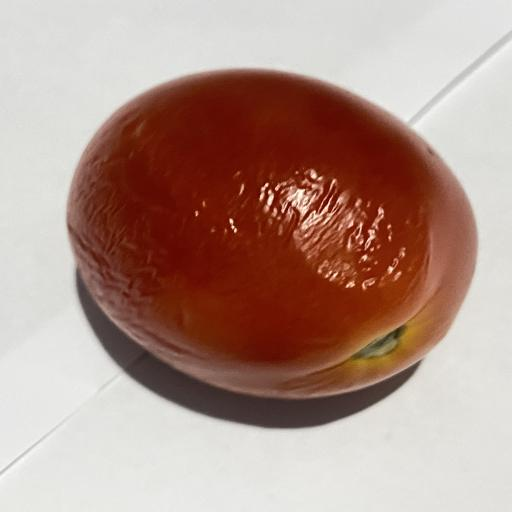spoiled: (67, 70, 476, 398)
